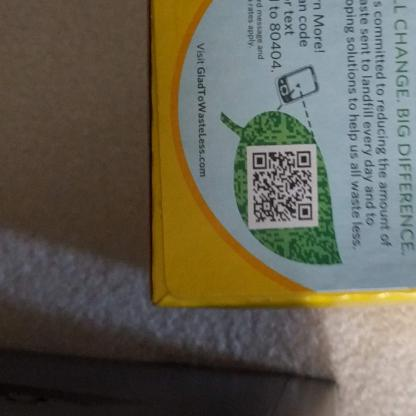qr: (248, 145, 317, 226)
